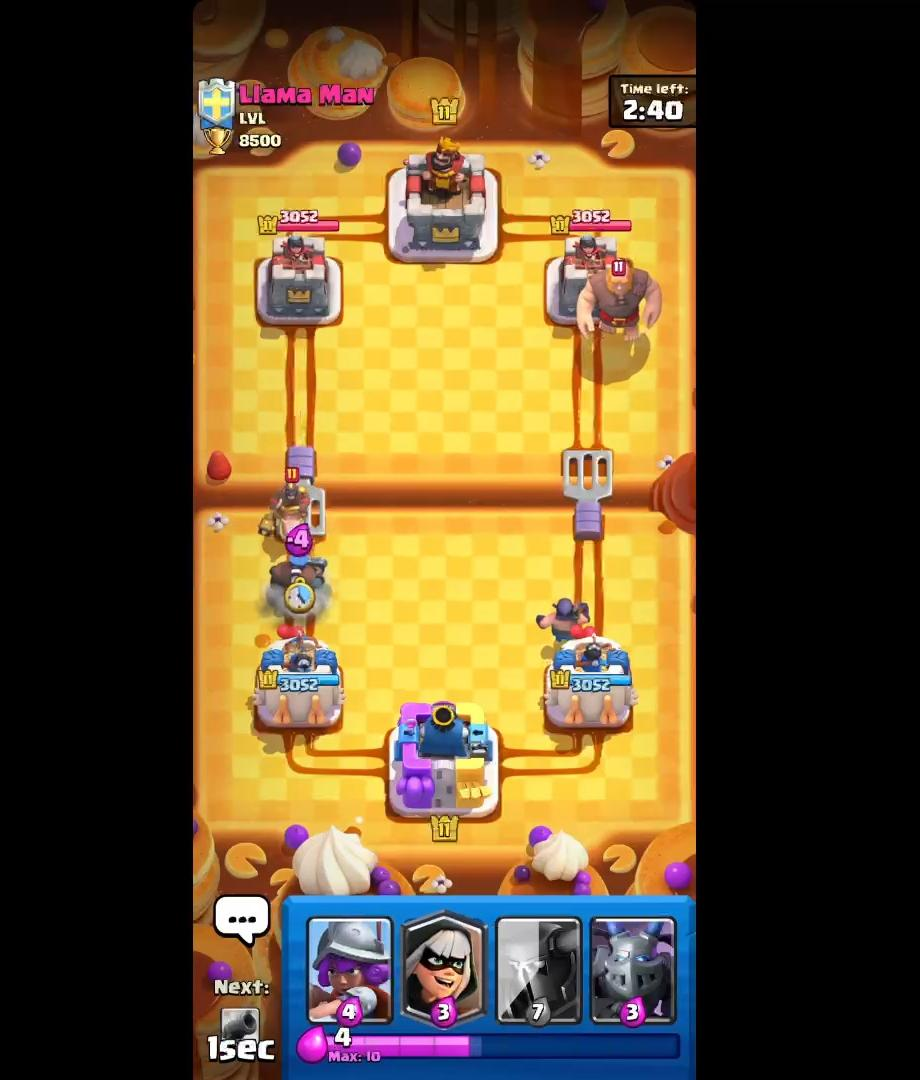Giant: (574, 254, 669, 353)
Hog Rider: (256, 464, 329, 549)
